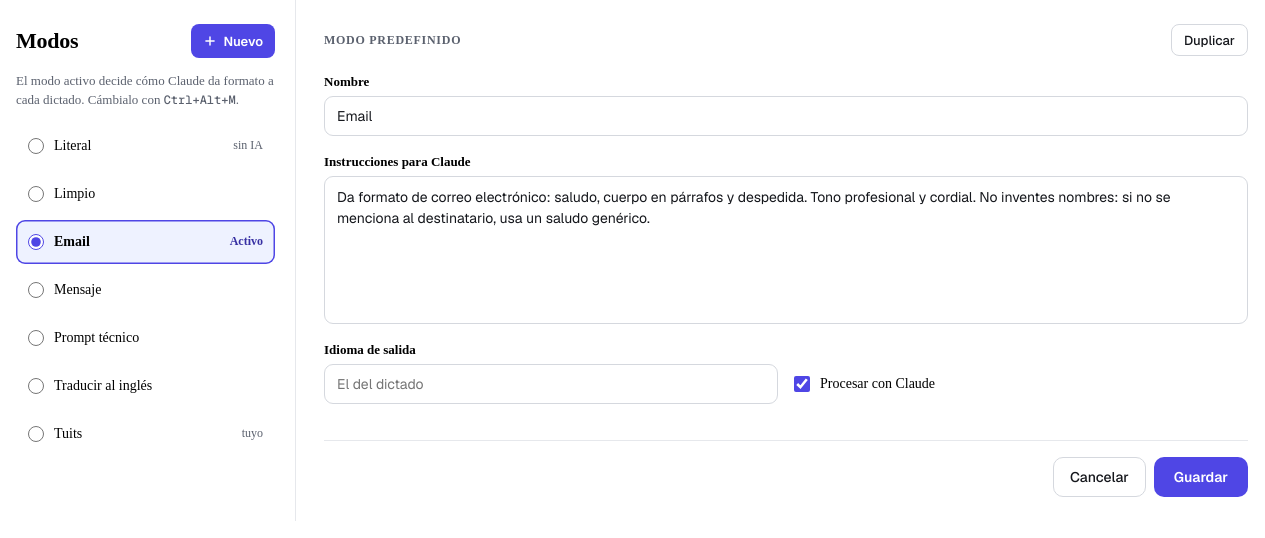
Scenario: Modes › muestra los errores del backend
This screenshot has width=1265, height=538.
Step 1. Click the button "Guardar" → [1201, 477], box left=1154, top=457, right=1248, bottom=497
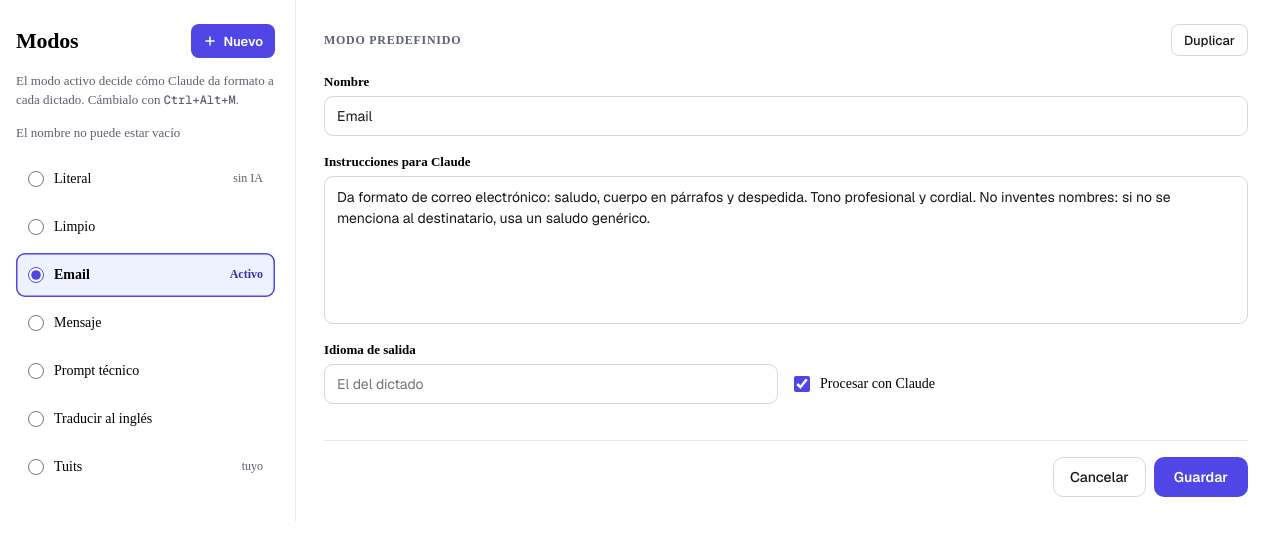
Check: the message reads "El nombre no puede estar vacío", box left=16, top=125, right=180, bottom=140
